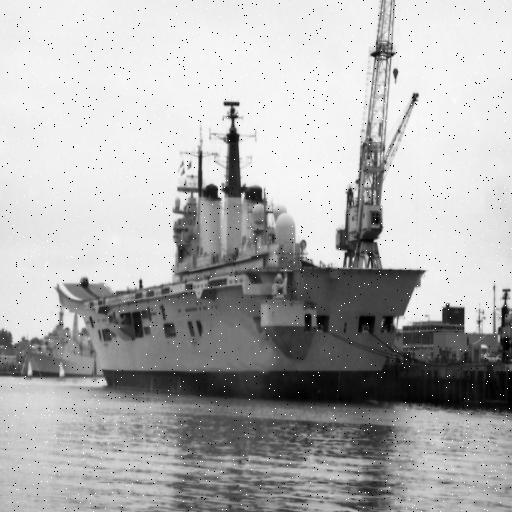Portanaves: (55, 97, 420, 394)
